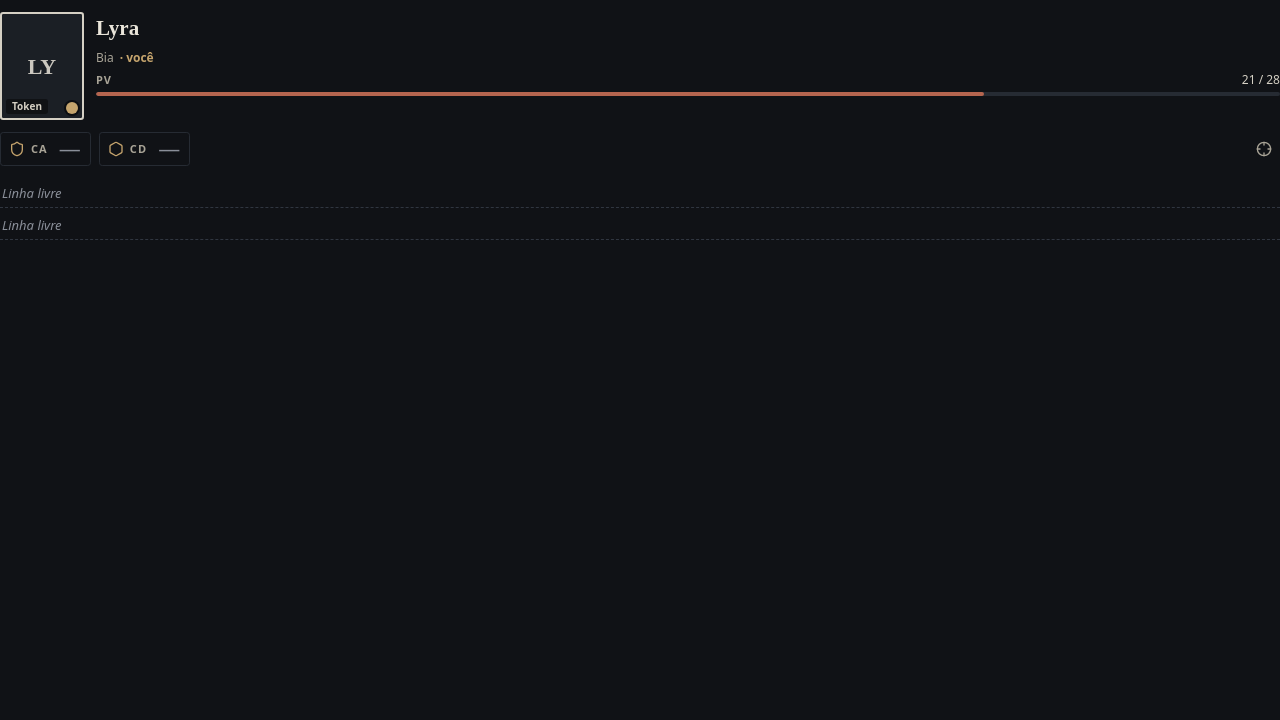
Scenario: BarQuickEdit › a double click on the PV of Lyra opens the balloon with "Atual" focused on 21, selected, and "Máx" 28
Double-click the button with aria-label "Editar PV de Lyra" at (1261, 80), box [96, 72, 1279, 96]
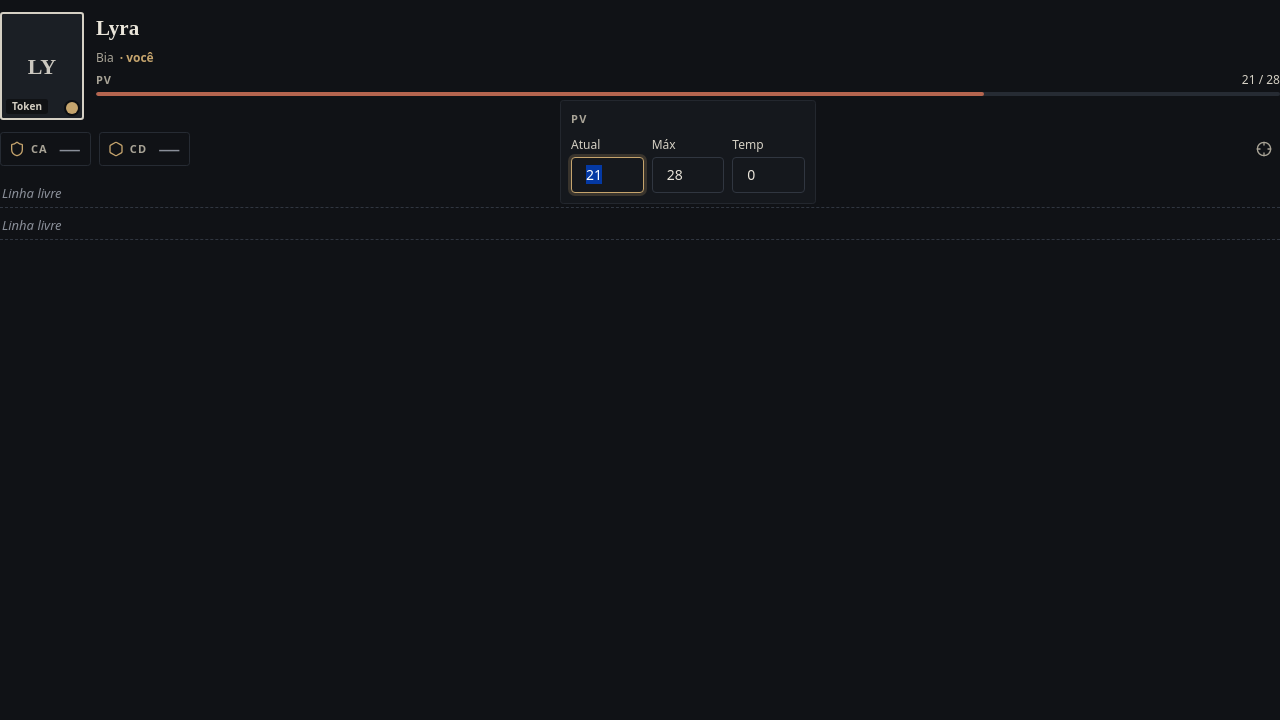
Expected: the field labelled "Atual" holds "21", [571, 157, 644, 193]
Expected: the field labelled "Máx" holds "28", [652, 157, 724, 193]
